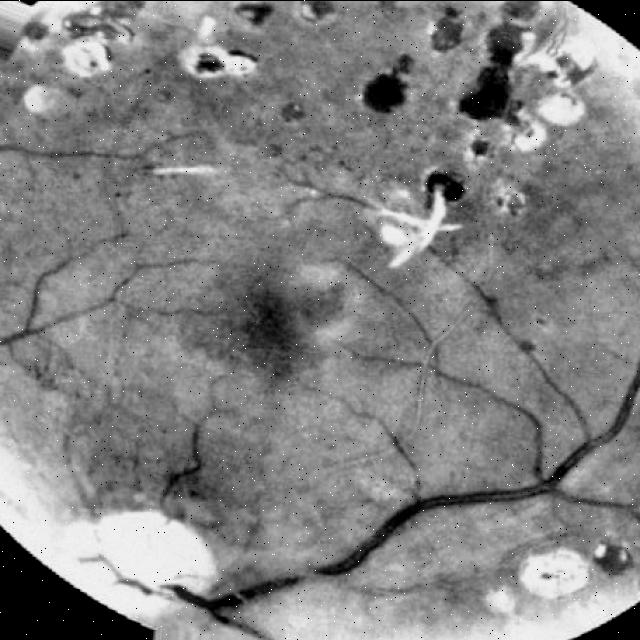Macula: (219, 277, 339, 364)
